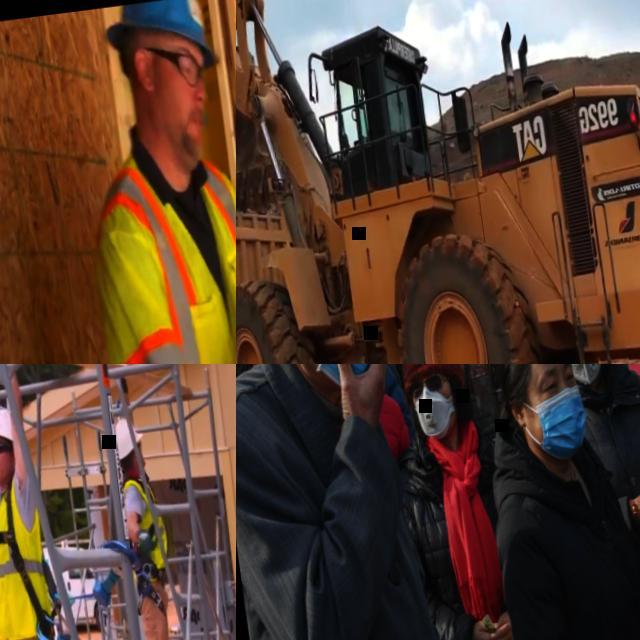helmet: (100, 0, 222, 81), (113, 416, 147, 460), (0, 406, 12, 444)
vest: (79, 132, 236, 364), (0, 477, 54, 640), (120, 474, 172, 583)
